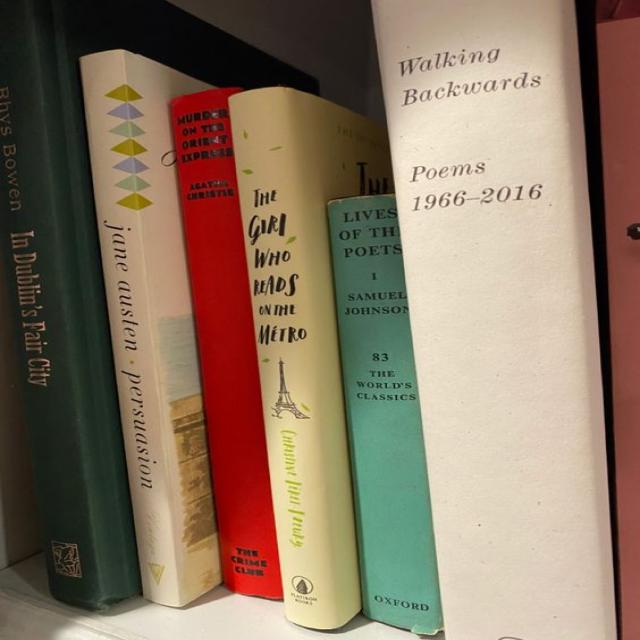book: (372, 0, 616, 639), (1, 0, 131, 609), (79, 50, 220, 607), (228, 90, 341, 624), (171, 88, 280, 600), (329, 195, 441, 634)
